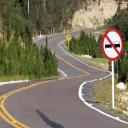NoUltrapassar: (100, 25, 125, 64)
